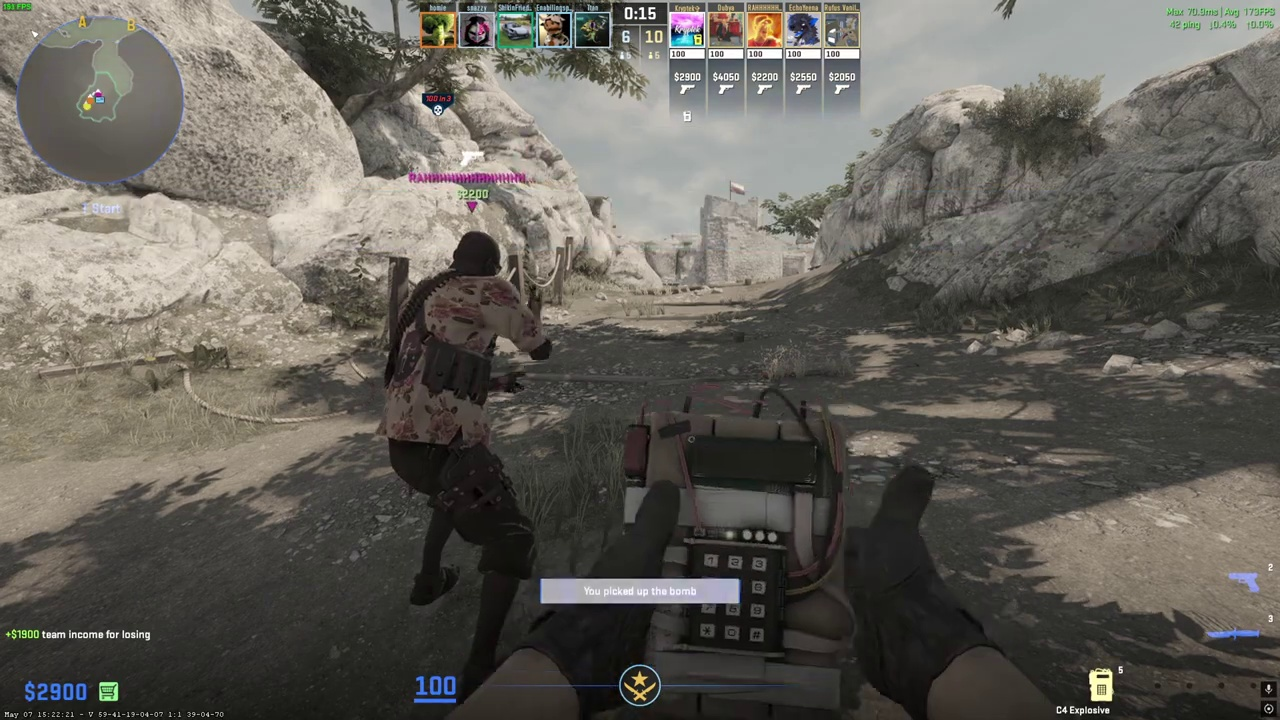Terrorist: (382, 231, 553, 667)
